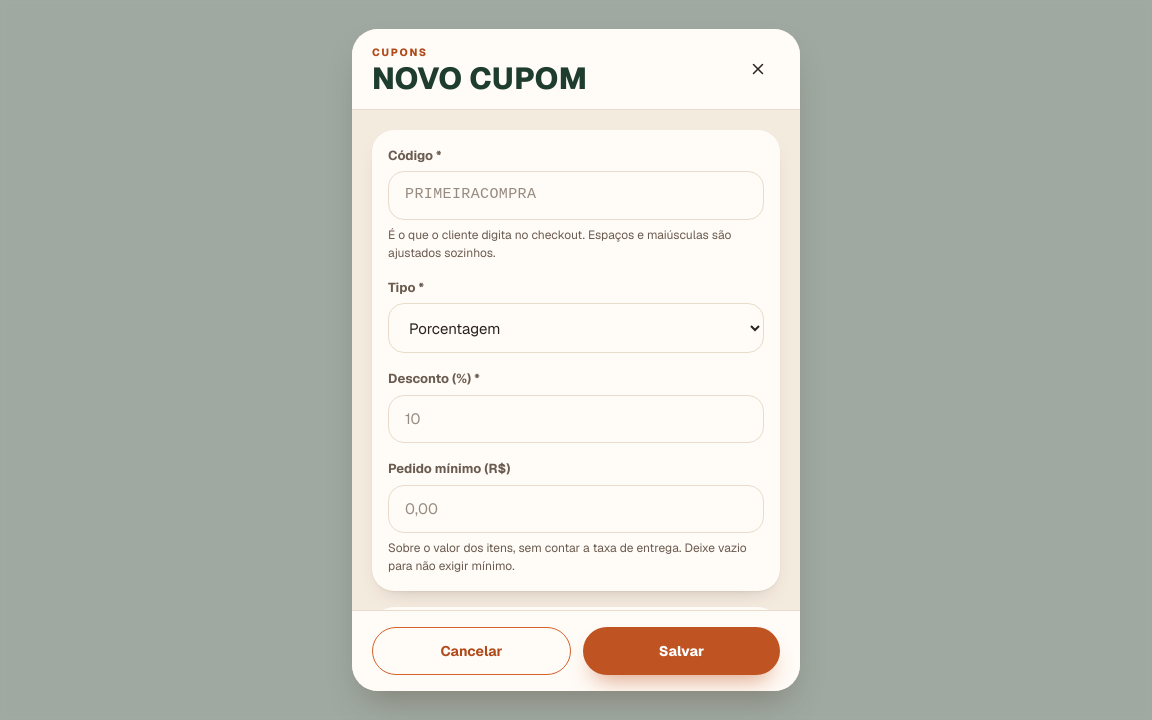
Test: validação › recusa código curto demais
This screenshot has width=1152, height=720.
In the field with placeholder "PRIMEIRACOMPRA": (576, 195) [388,171,764,220], type "AB"
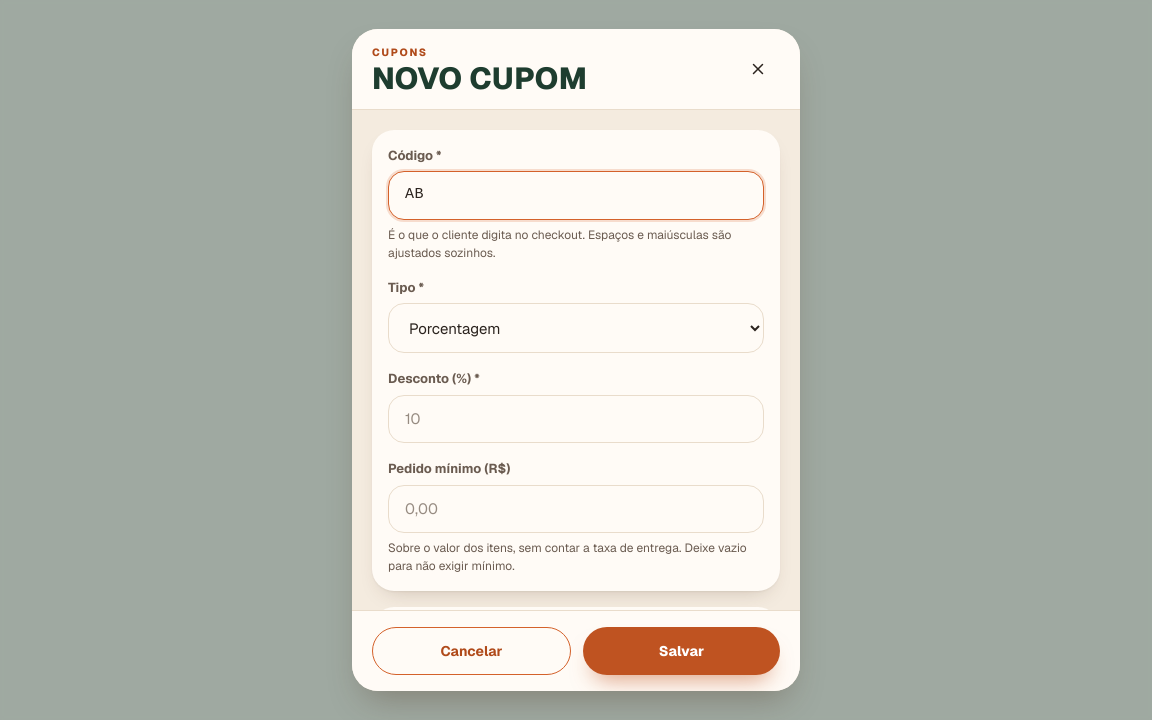
Click the button "Salvar": (682, 651) [583,627,780,675]
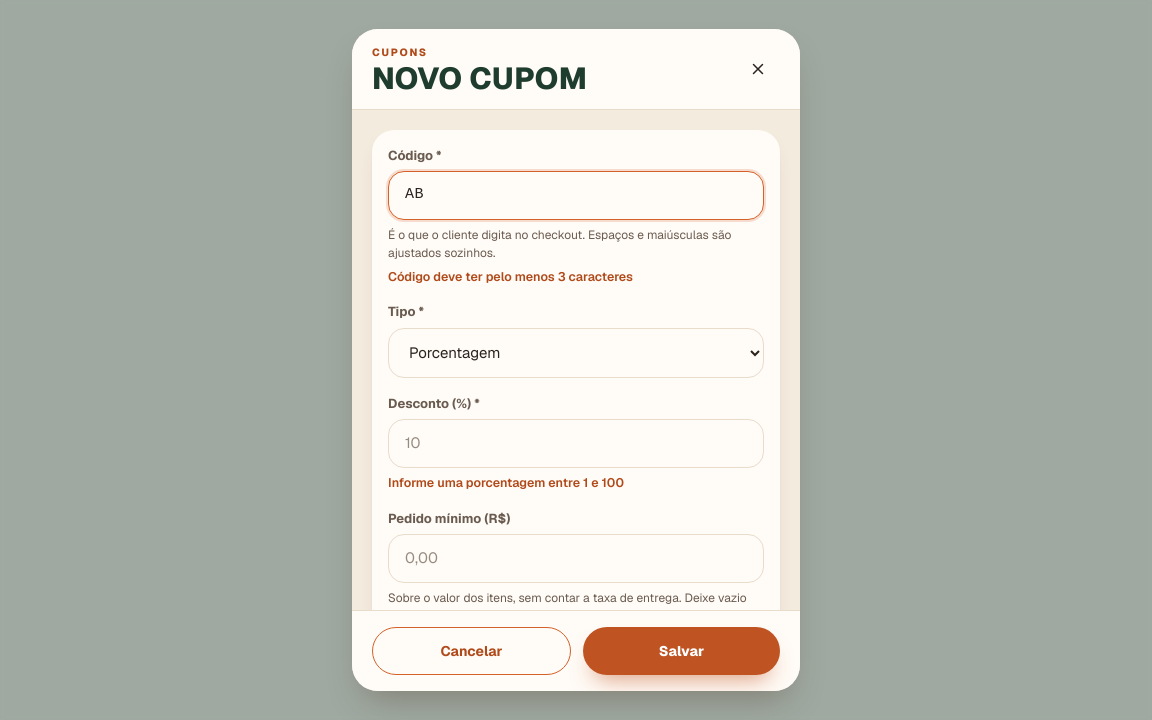
Check: the text "Código deve ter pelo menos 3 caracteres" is shown, box [388,268,633,284]
